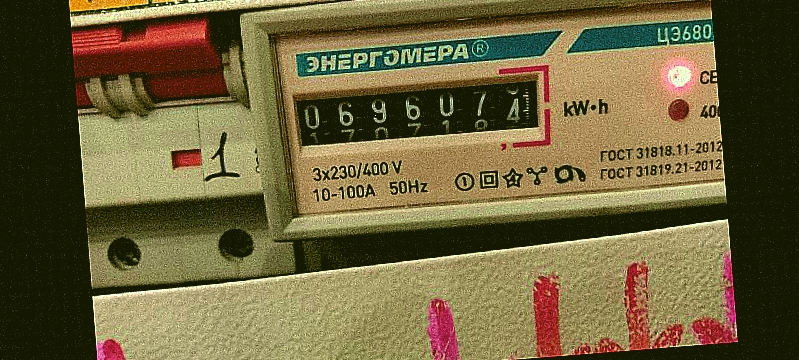0: (300, 101, 323, 130), (437, 87, 457, 118), (336, 98, 355, 126)
4: (503, 95, 523, 124)
6: (402, 90, 422, 121)
7: (470, 86, 490, 116)
9: (369, 95, 389, 124)
screen: (277, 60, 557, 165)
